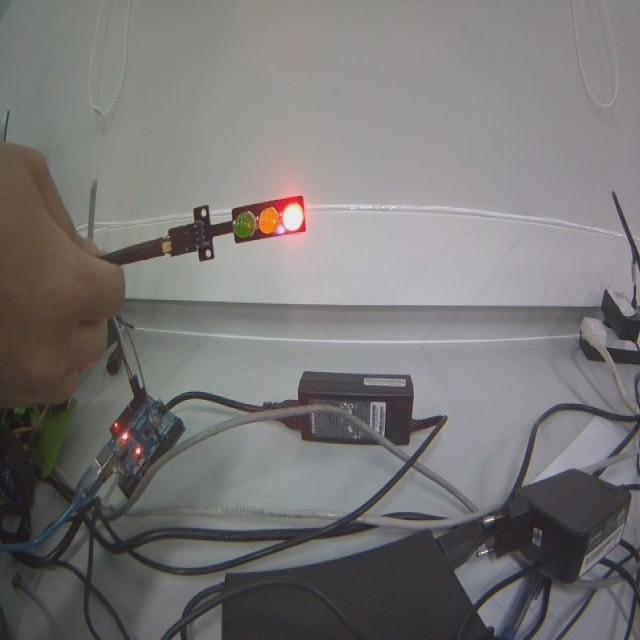Lampu Merah: (232, 193, 307, 243)
